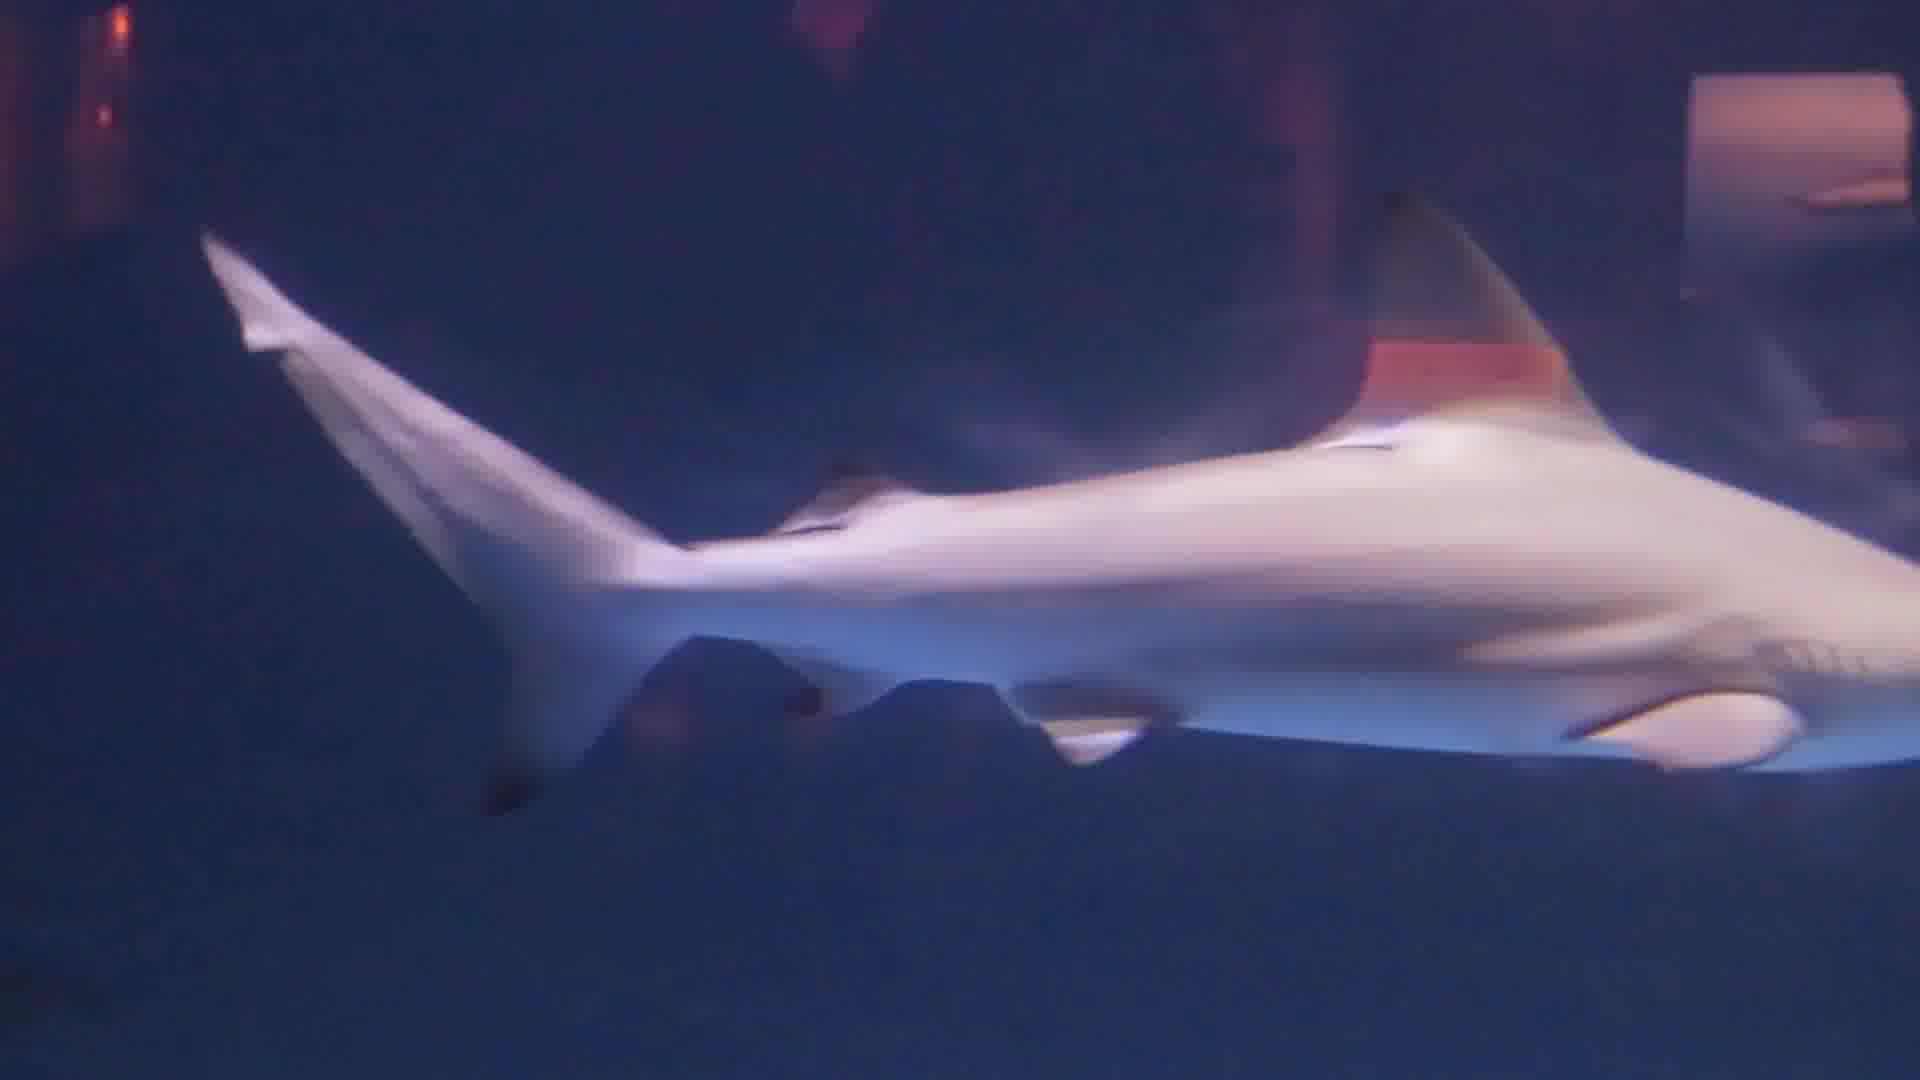Carcharhinus leucas: (280, 98, 1896, 828)
